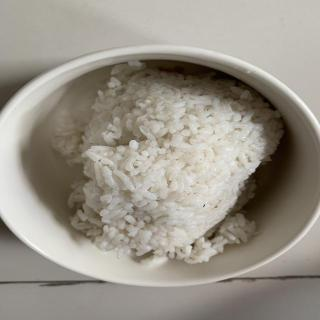Nasi: (50, 58, 289, 270)
